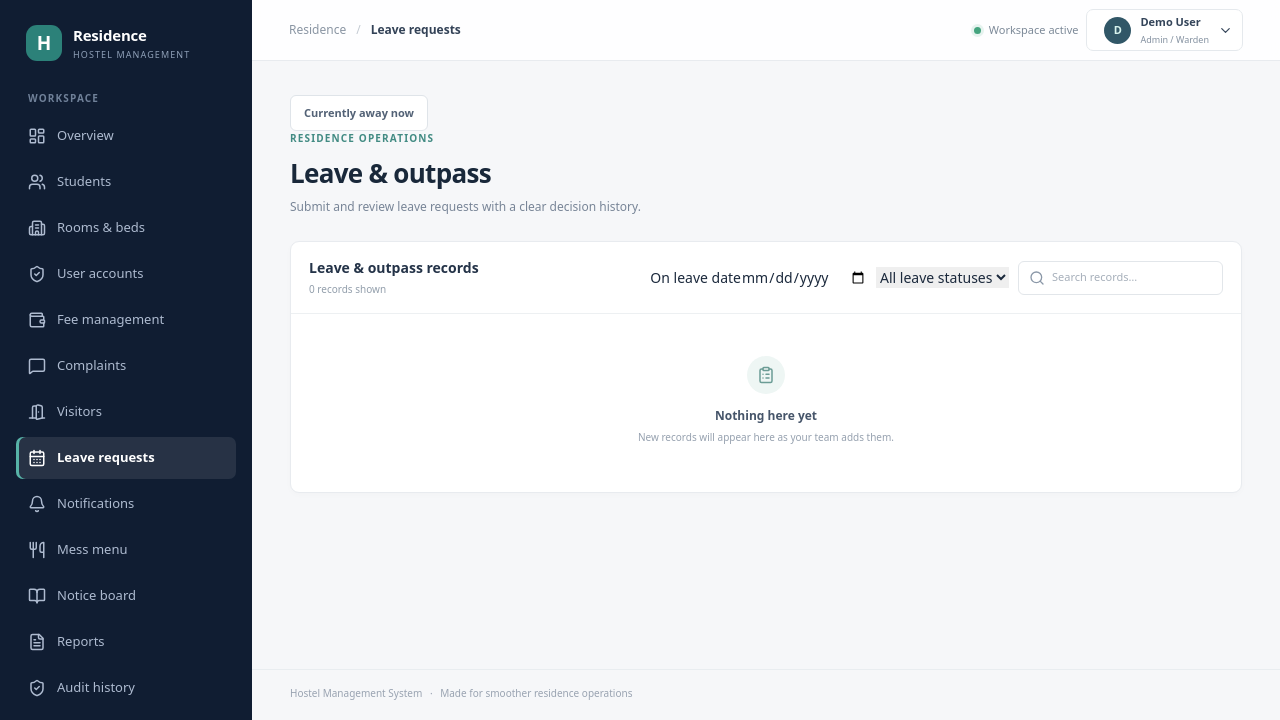
Test: HMS authentication and route access › lets Admins view students with currently active approved leave
The image size is (1280, 720).
Expected: the heading "Leave & outpass" is shown, [290,155,491,191]
Click the button "Currently away now" at (359, 113), box [290,95,428,131]
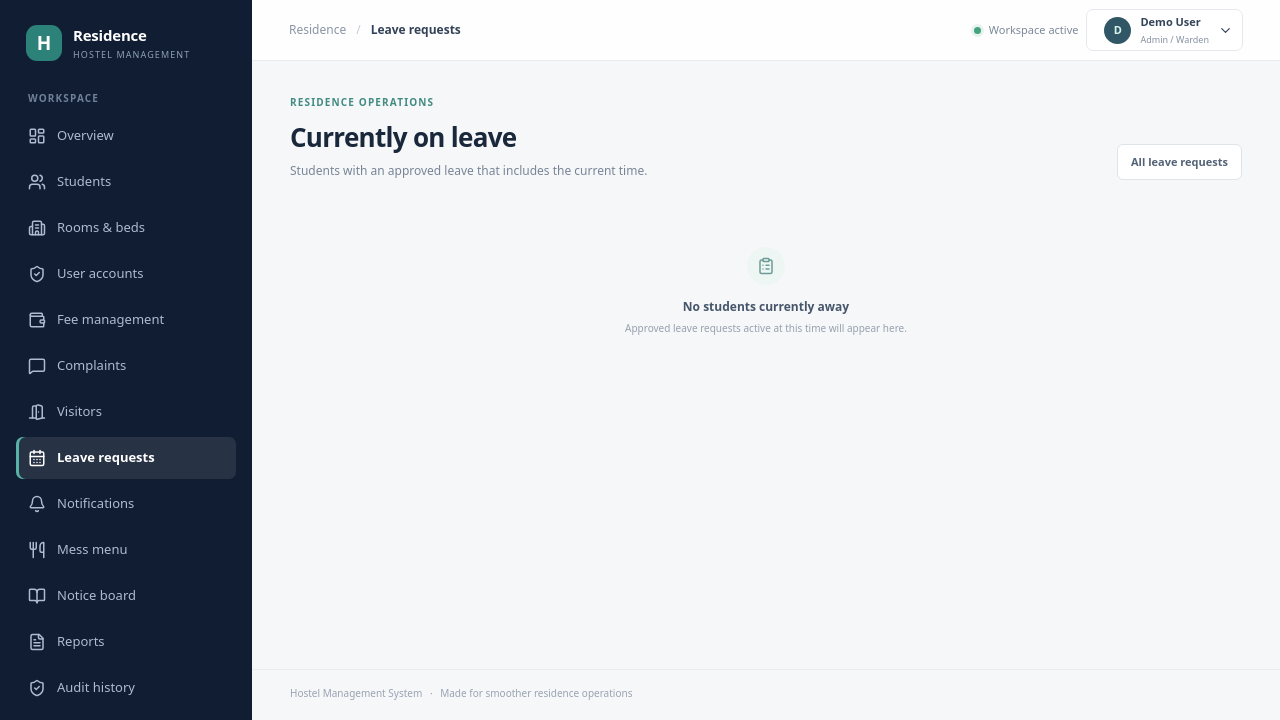
Expected: the heading "Currently on leave" is shown, [290,119,516,155]
